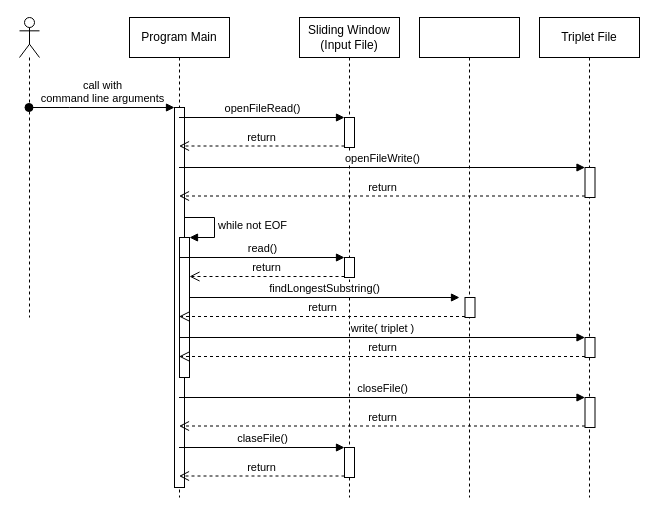
This 657x515 diagram has some shape labels left out. Here are the shapes that lost their labels. From the top down, the box of each, then its label:
(18, 16, 40, 318): User
(418, 16, 520, 498): LCS
